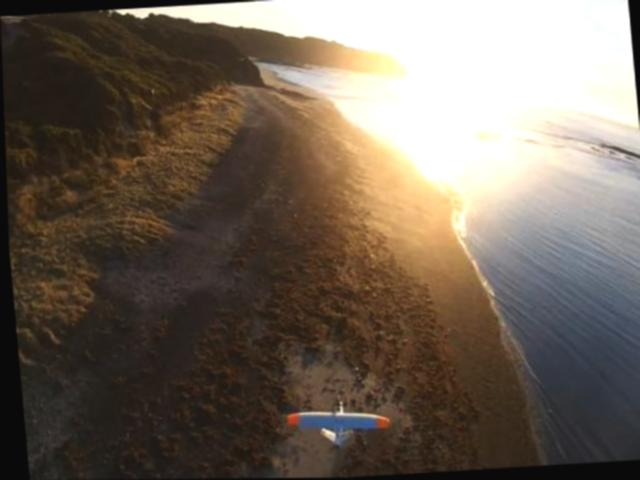uav: (282, 399, 390, 453)
